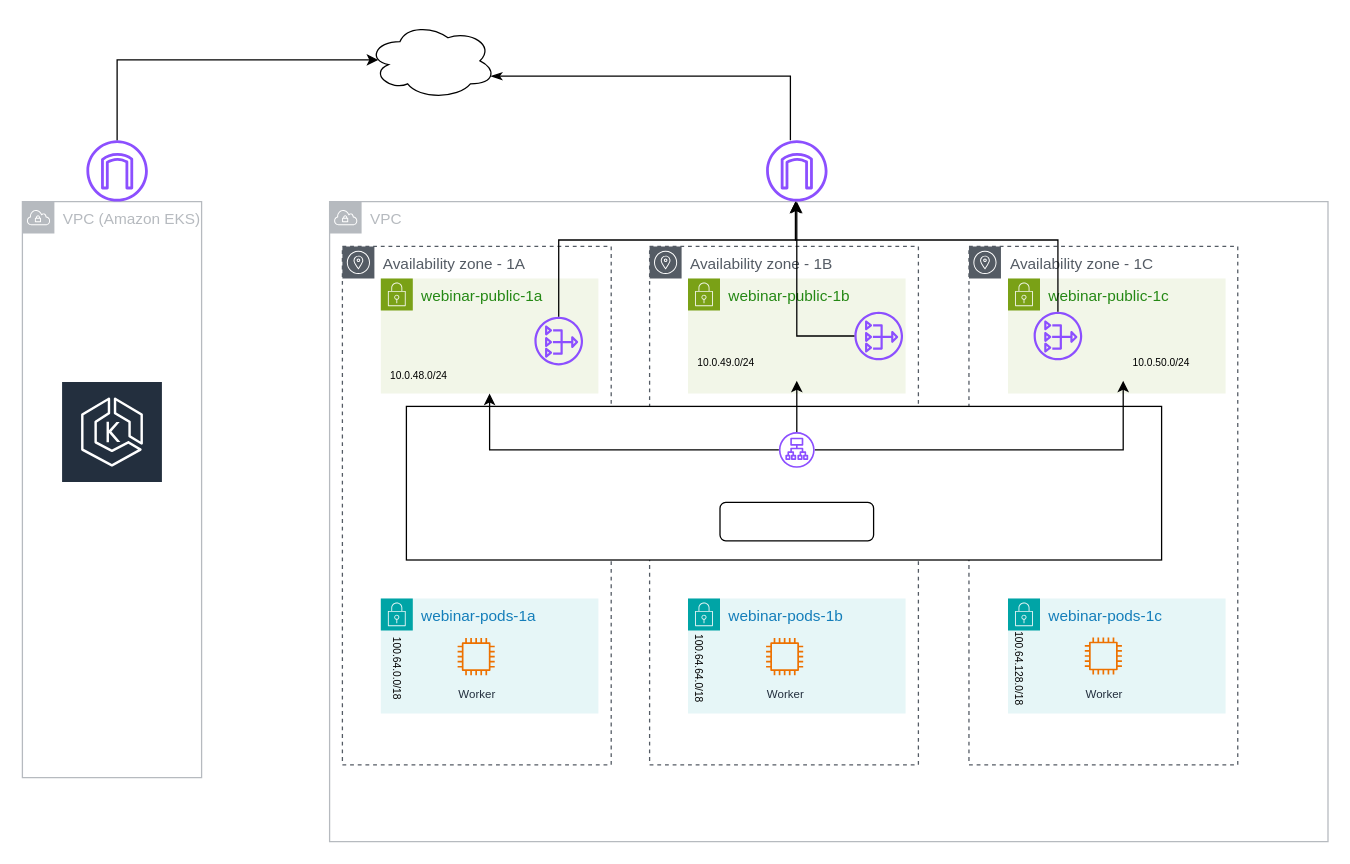
The diagram is 1350 pixels wide and 864 high, and some of its shapes have lost their labels. Here are the shapes that lost their labels. From the top down, the centre of each, then its label:
the point at 431,60: Internet
the point at 111,454: Amazon EKS Control Plane
the point at 796,449: ALB
the point at 796,521: Target Group
